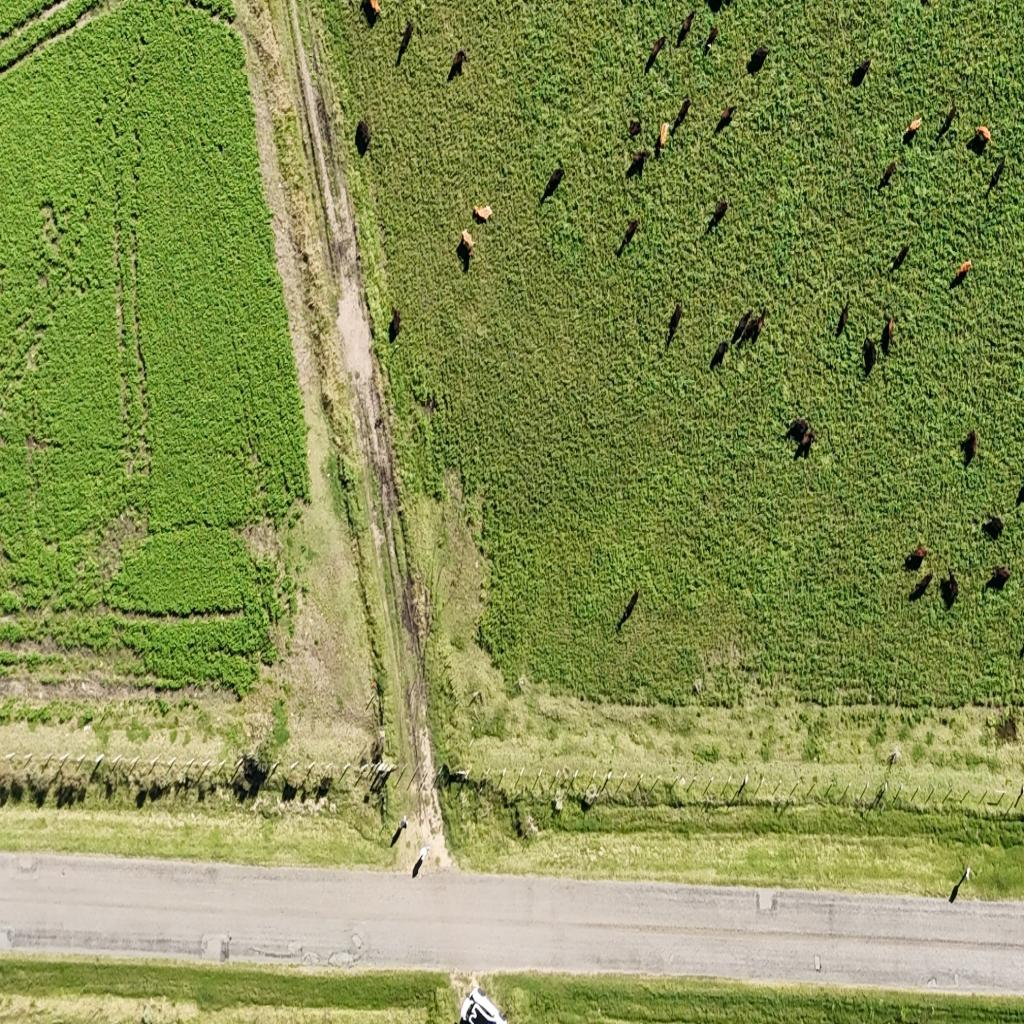cow: (453, 212, 478, 276), (669, 10, 698, 52), (446, 42, 471, 84), (942, 558, 962, 610), (780, 413, 811, 446), (540, 166, 564, 203), (619, 587, 640, 627), (909, 570, 934, 602), (646, 35, 666, 73), (396, 20, 413, 64), (968, 122, 992, 152), (671, 96, 691, 132), (747, 308, 766, 344), (627, 147, 649, 178), (732, 310, 752, 344), (470, 198, 492, 228), (990, 562, 1012, 592), (354, 118, 371, 156), (620, 218, 640, 250), (952, 258, 974, 287), (748, 45, 770, 74), (667, 302, 682, 343), (708, 197, 728, 227), (704, 25, 722, 58), (851, 56, 871, 85), (938, 103, 956, 135), (835, 299, 850, 336), (982, 515, 1004, 540), (388, 308, 405, 340), (961, 430, 977, 464), (906, 543, 930, 565), (711, 340, 729, 369), (655, 119, 668, 158), (716, 103, 734, 131), (892, 243, 910, 270), (863, 338, 876, 375), (363, 0, 381, 25), (796, 431, 812, 459), (880, 159, 896, 186), (905, 115, 923, 139), (885, 316, 895, 346), (704, 0, 725, 14), (628, 118, 642, 138)
